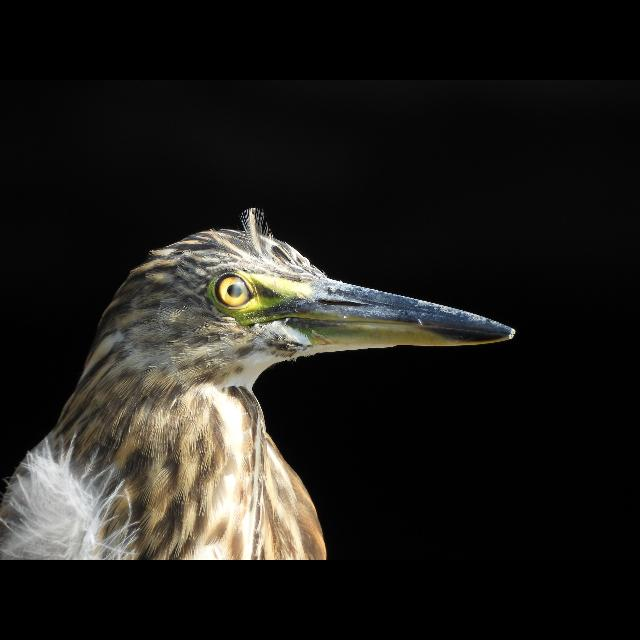heron: (1, 206, 526, 560)
